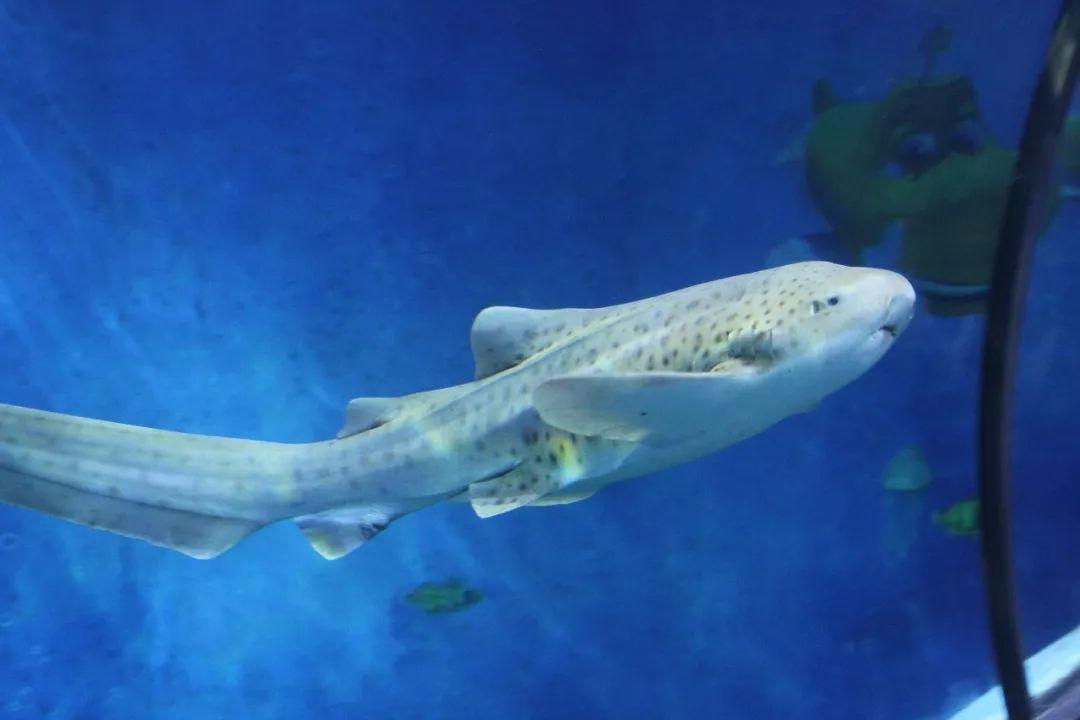fish: (1, 261, 909, 564)
